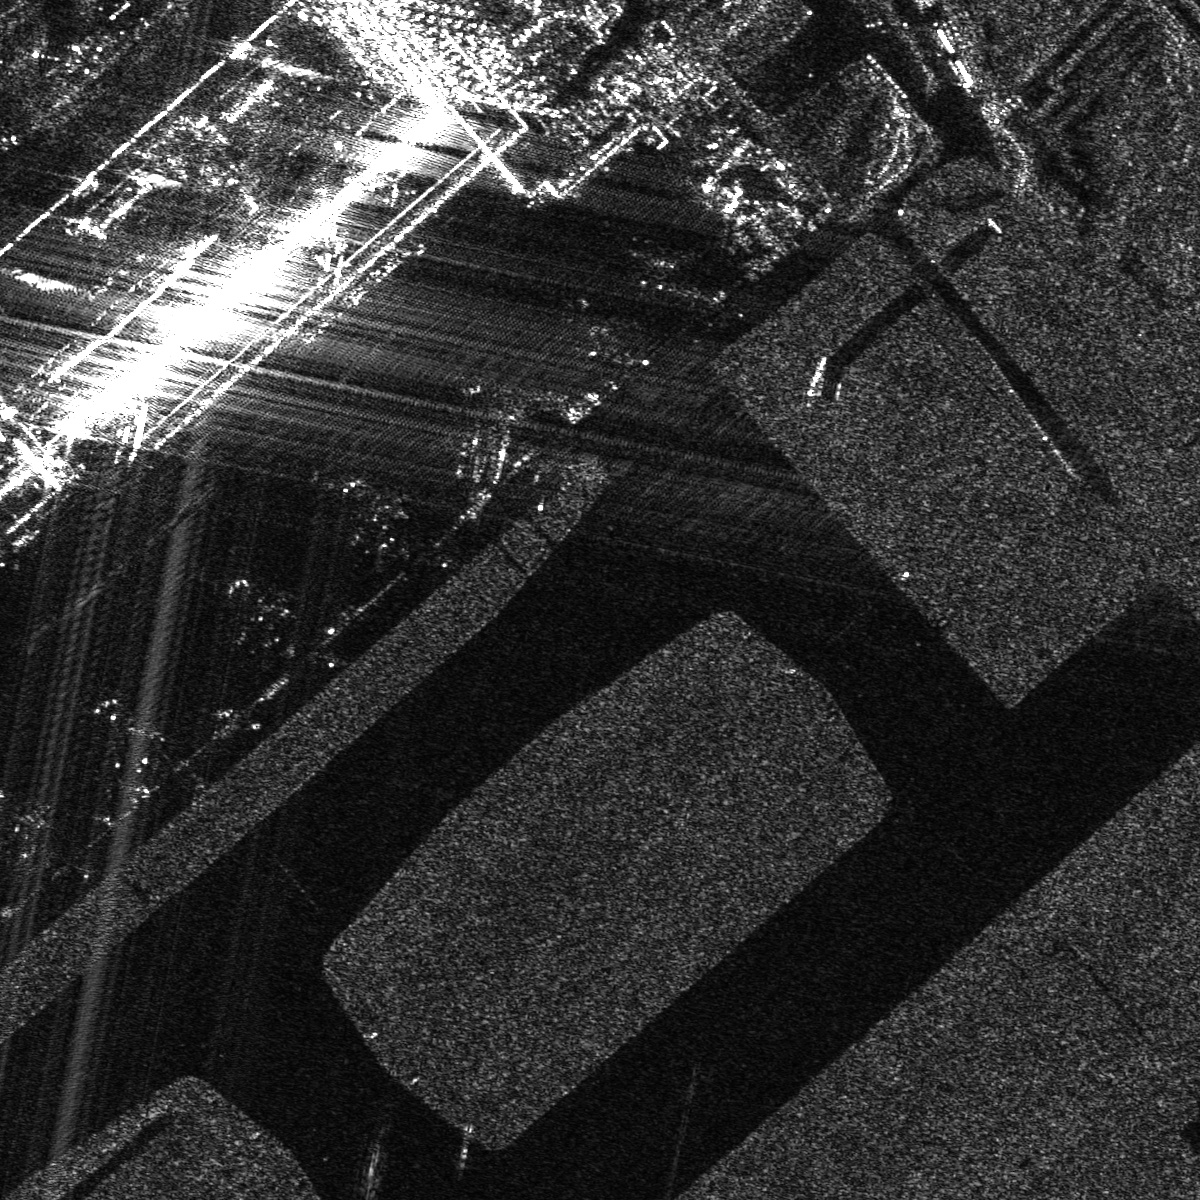Boeing737: (574, 291, 640, 371), (635, 245, 705, 305)
other: (92, 689, 180, 776), (338, 477, 412, 565), (221, 573, 297, 654)
